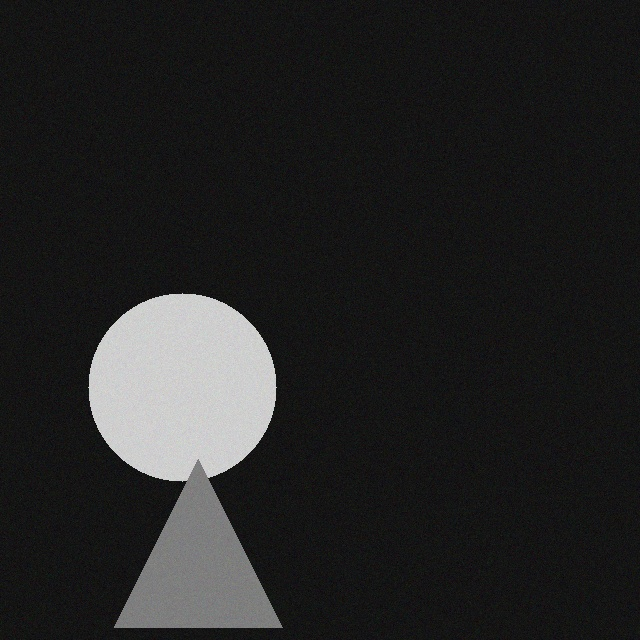circle: (75, 294, 263, 482)
triangle: (101, 460, 269, 628)
